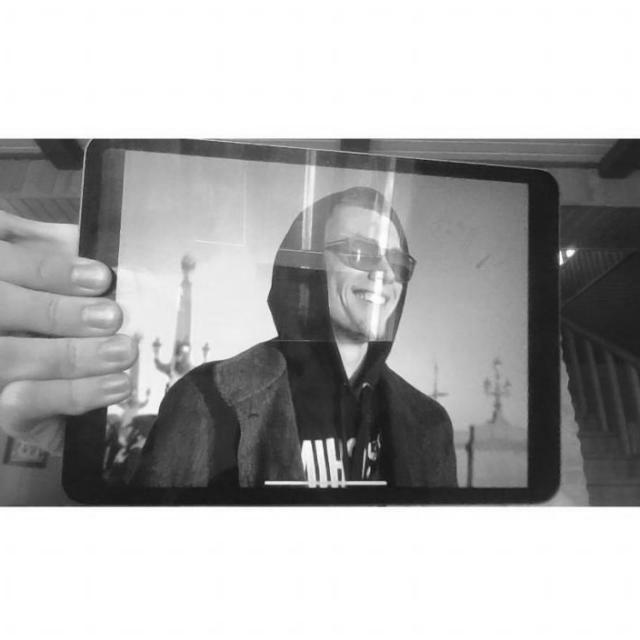fake: (68, 144, 562, 506)
